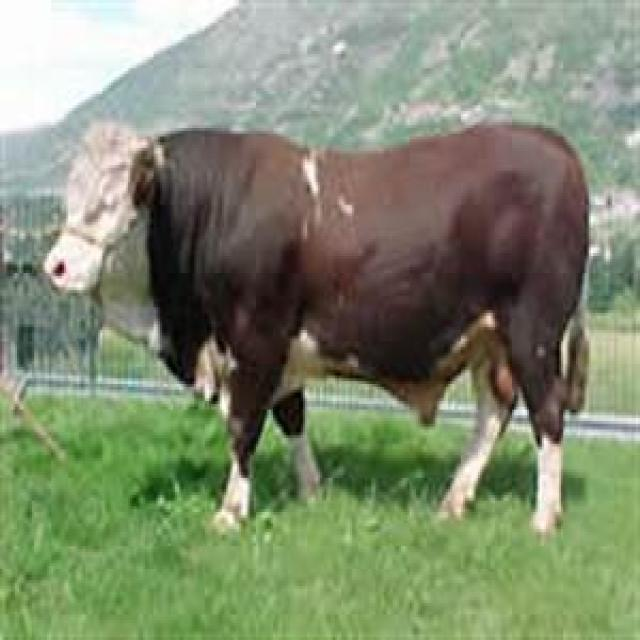cow: (41, 122, 593, 540)
